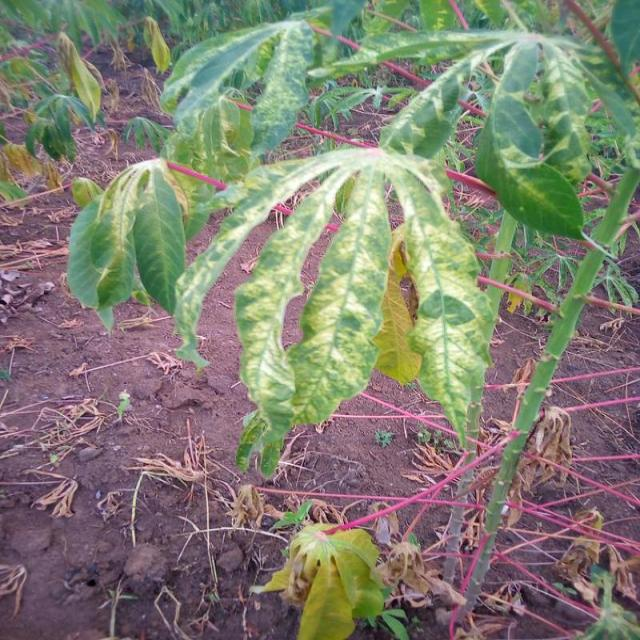cassava leaf: (474, 35, 588, 240), (250, 523, 388, 638)
